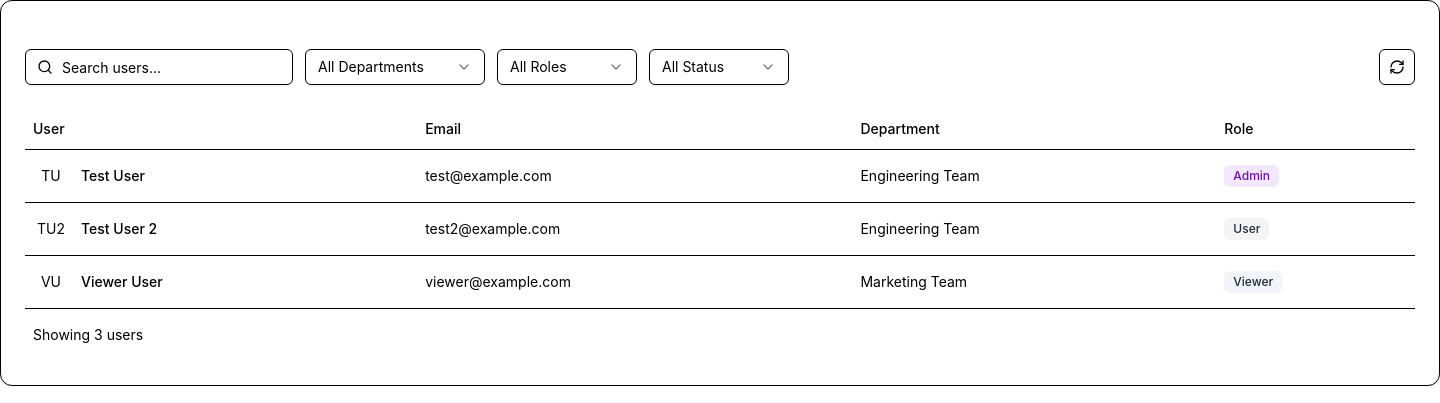
Scenario: UsersTable › filters users by search text (email)
This screenshot has width=1440, height=403.
In the field with placeholder "Search users...": coordinates (159, 67) top-left (25, 49), bottom-right (293, 85), type "test2@example.com"
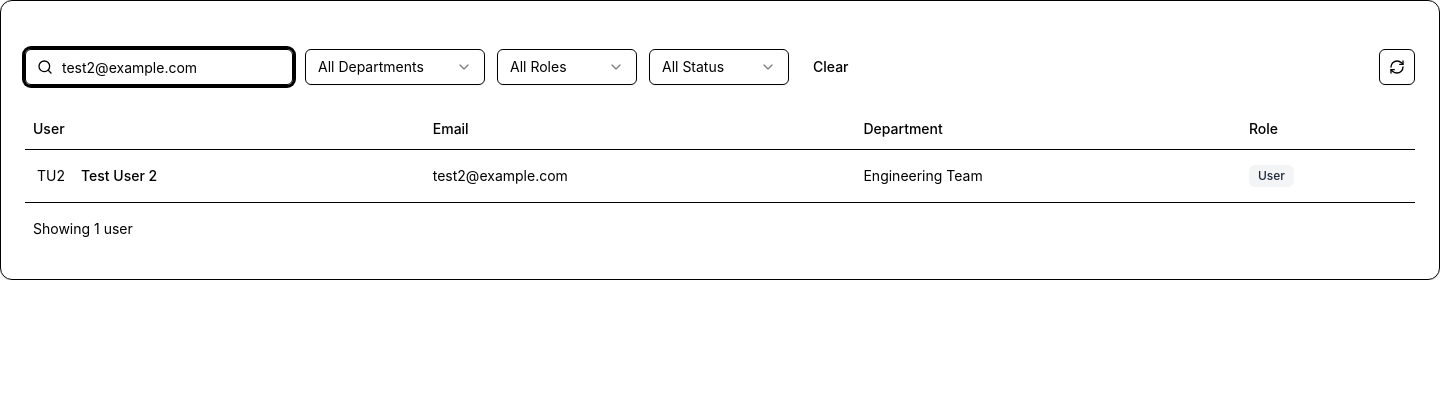
Expected: the text "Test User 2" is shown, top-left (81, 166), bottom-right (157, 186)
Now the text "test@example.com" is gone
